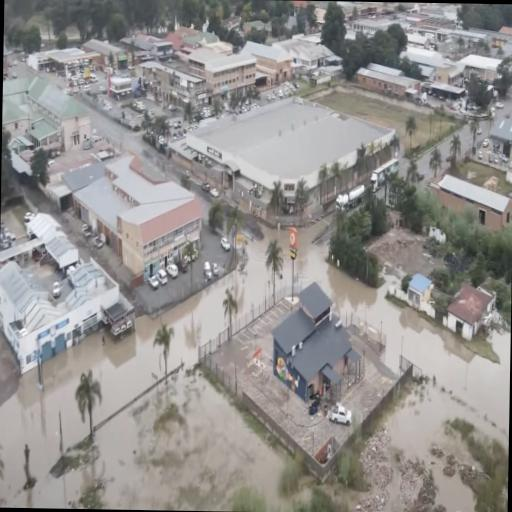flood: (0, 228, 285, 512), (295, 227, 511, 468), (433, 458, 473, 512), (281, 228, 292, 294), (294, 236, 306, 294), (303, 227, 314, 253), (280, 232, 287, 261), (287, 273, 290, 282)
house: (184, 92, 397, 224), (61, 150, 210, 276), (0, 249, 123, 381), (272, 276, 352, 398), (2, 76, 94, 172), (423, 171, 512, 236), (188, 46, 254, 102), (26, 208, 80, 272), (446, 282, 492, 344), (354, 62, 420, 100), (294, 34, 342, 86), (244, 37, 292, 88), (489, 112, 512, 180), (462, 54, 506, 83), (406, 270, 434, 314)
